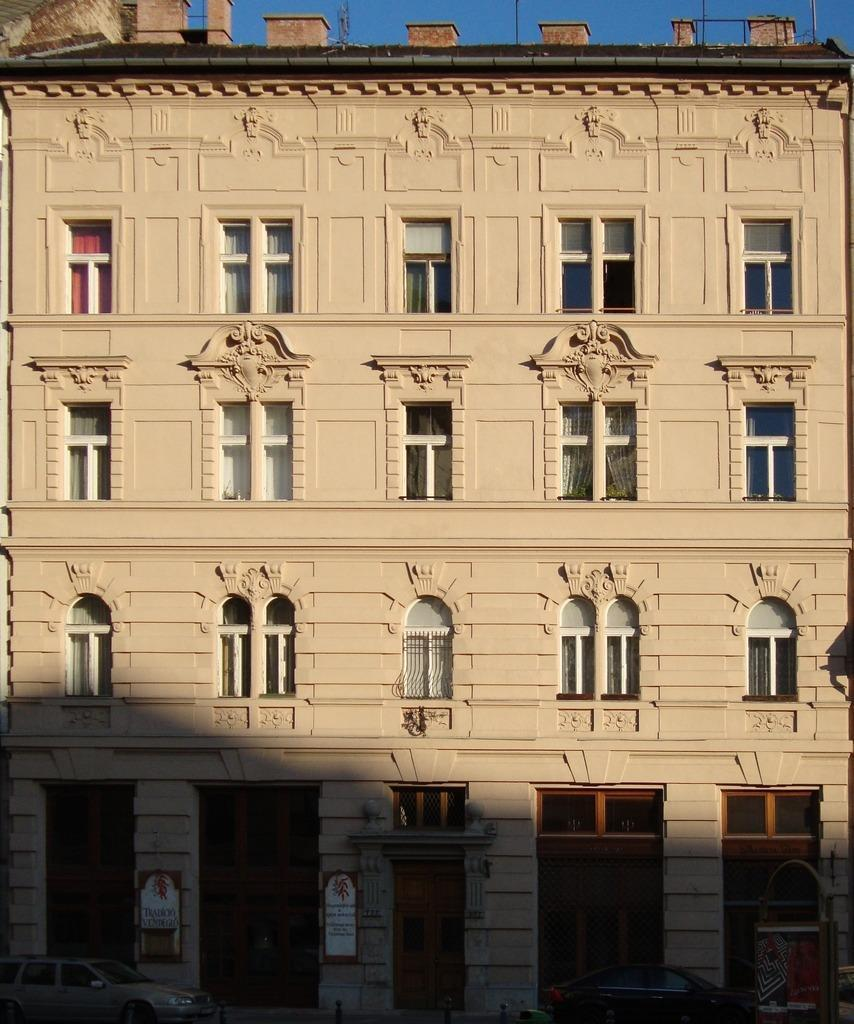window: (197, 786, 320, 1010), (539, 787, 662, 1011), (727, 792, 821, 1012), (41, 785, 135, 1004), (66, 594, 115, 699), (403, 404, 455, 501), (742, 219, 794, 315), (746, 405, 797, 502), (407, 596, 455, 699), (746, 599, 794, 702), (402, 219, 453, 315), (63, 406, 114, 502), (62, 220, 113, 314), (607, 597, 642, 701), (562, 597, 597, 701), (262, 595, 297, 699), (220, 596, 255, 699), (392, 786, 467, 833), (263, 401, 296, 502), (219, 403, 252, 504), (218, 219, 252, 316), (557, 220, 591, 317), (559, 405, 593, 502), (259, 219, 293, 315), (604, 217, 638, 313), (602, 403, 636, 499)
